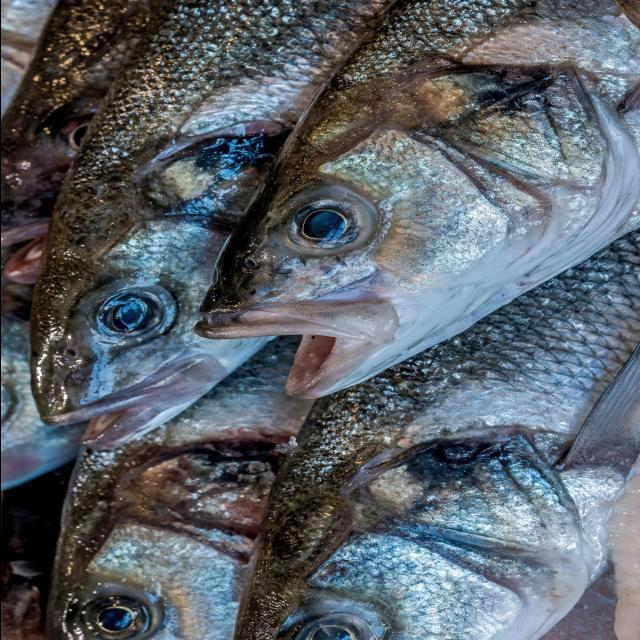fish: (194, 0, 639, 398), (232, 230, 639, 639), (29, 0, 390, 448), (45, 337, 310, 639), (0, 0, 165, 317), (0, 315, 83, 490)
